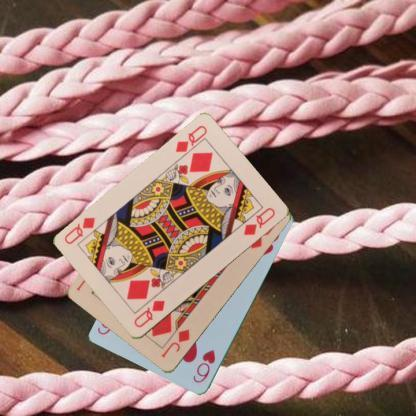6h: (190, 347, 217, 385)
Jd: (158, 326, 192, 360)
Qd: (172, 122, 208, 162), (132, 298, 166, 330)
